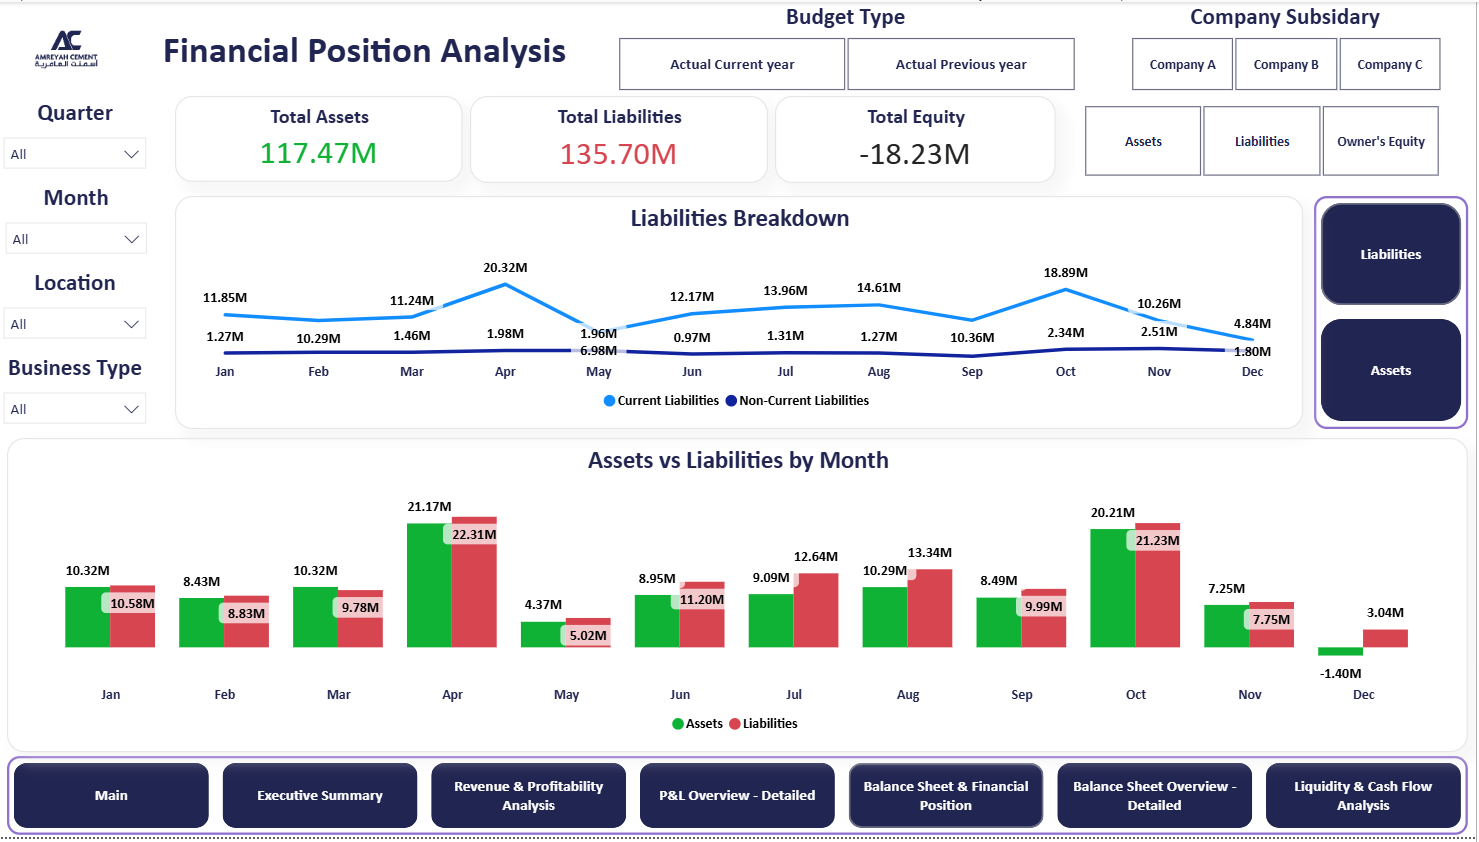

The page's visual inventory and layout, read from the dashboard file:
{"tool":"powerbi","page":{"name":"Balance Sheet & Financial Position","canvas":[1280,720],"ordinal":4},"visuals":[{"type":"textbox","box":[127.5,0,387.2,82.4],"z":0,"group":"g1"},{"type":"pageNavigator","title":"Report Pages","box":[13,650,1260,68],"z":0},{"type":"group","id":"g1","title":"Group 1","box":[0,0,514.7,82.4],"z":1000},{"type":"image","box":[0,0,127.5,82.4],"z":1000,"group":"g1"},{"type":"slicer","title":"Budget Type","fields":{"Values":["Budget Type.Name"]},"box":[514.6,0,443,83.1],"z":2000},{"type":"slicer","title":"Company Subsidary","fields":{"Values":["Data Table.Company Subsidary"]},"box":[957.4,0,316,83.3],"z":3000},{"type":"slicer","title":"Quarter","fields":{"Values":["Calendar.Quarter"]},"box":[0,83.1,143.3,73.3],"z":4000},{"type":"slicer","title":"Month","fields":{"Values":["Calendar.MonthName"]},"box":[1.6,156.3,141.7,73.3],"z":5000},{"type":"slicer","title":"Location","fields":{"Values":["Data Table.Location"]},"box":[0,229.6,143.3,73.3],"z":6000},{"type":"slicer","title":"Business  Type","fields":{"Values":["Data Table.Business  Type"]},"box":[0,302.9,143.3,73.3],"z":7000},{"type":"card","title":"Total Assets","fields":{"Values":["Measure.Total Assets"]},"box":[157.6,81.4,247.8,74.4],"z":8000},{"type":"card","title":"Total Liabilities","fields":{"Values":["Measure.Total Liabilities"]},"box":[412.4,81.4,256.5,75.3],"z":9000},{"type":"card","title":"Total Equity","fields":{"Values":["Measure.Total Equity"]},"box":[675,81.4,241.6,75.3],"z":10000},{"type":"slicer","title":"Budget Type","fields":{"Values":["Data Table.Level 1"]},"box":[916.7,83.2,355.5,73.5],"z":12000},{"type":"clusteredColumnChart","title":"Assets vs Liabilities by Month","fields":{"Category":["Calendar.MonthName"],"Y":["Measure.Total Assets","Measure.Total Liabilities"]},"box":[13.1,376.5,1259.9,271.4],"z":13000},{"type":"bookmarkNavigator","box":[1139.9,167.2,133.1,201.4],"z":15000},{"type":"lineChart","title":"Liabilities Breakdown","fields":{"Category":["Calendar.MonthName"],"Series":["Data Table.Level 2"],"Y":["Measure.Liabilities"]},"box":[157.6,167.2,972.7,201.4],"z":16000}]}

Visuals, with their boxes in screenshot pixels (x1, y1, x2, y2), scaled from the page's 1280x720 canvas onto the 1479x842 screenshot:
textbox: (147,0,595,96)
"Report Pages" pageNavigator: (15,760,1471,840)
"Group 1" group: (0,0,595,96)
image: (0,0,147,96)
"Budget Type" slicer: (595,0,1106,97)
"Company Subsidary" slicer: (1106,0,1471,97)
"Quarter" slicer: (0,97,166,183)
"Month" slicer: (2,183,166,269)
"Location" slicer: (0,269,166,354)
"Business  Type" slicer: (0,354,166,440)
"Total Assets" card: (182,95,468,182)
"Total Liabilities" card: (477,95,773,183)
"Total Equity" card: (780,95,1059,183)
"Budget Type" slicer: (1059,97,1470,183)
"Assets vs Liabilities by Month" clusteredColumnChart: (15,440,1471,758)
bookmarkNavigator: (1317,196,1471,431)
"Liabilities Breakdown" lineChart: (182,196,1306,431)
